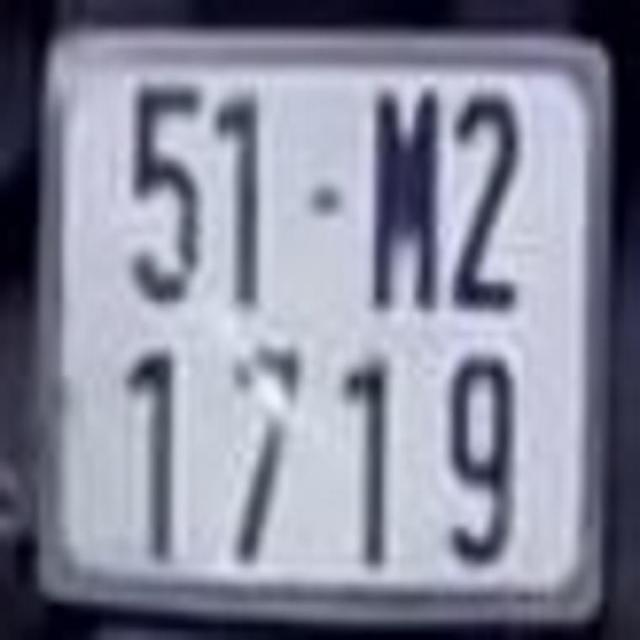1: (122, 346, 191, 572), (348, 357, 398, 570), (225, 96, 265, 299)
2: (444, 95, 520, 305)
5: (126, 83, 202, 300)
7: (227, 338, 304, 565)
9: (450, 361, 514, 568)
M: (371, 97, 437, 313)
